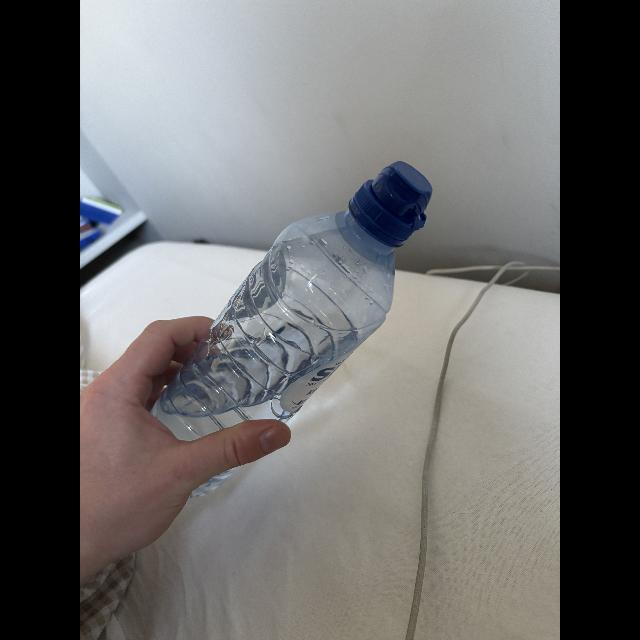Plastic: (148, 157, 434, 499)
